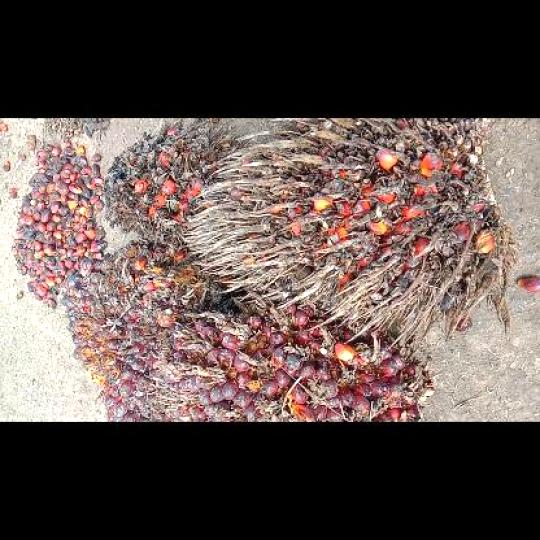masak: (172, 297, 434, 420), (63, 239, 241, 420)
terlalu masak: (183, 118, 515, 348), (103, 118, 240, 251)
